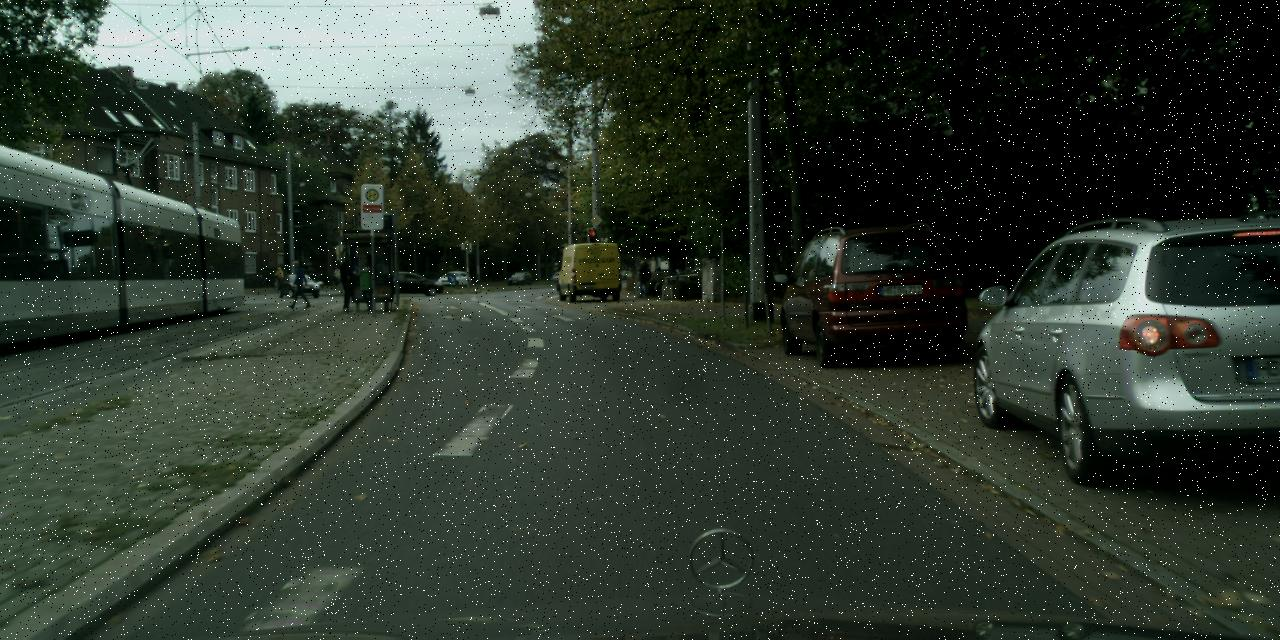ped: (336, 253, 359, 311), (288, 260, 306, 308), (633, 258, 649, 298), (275, 266, 283, 286), (334, 267, 341, 284)
